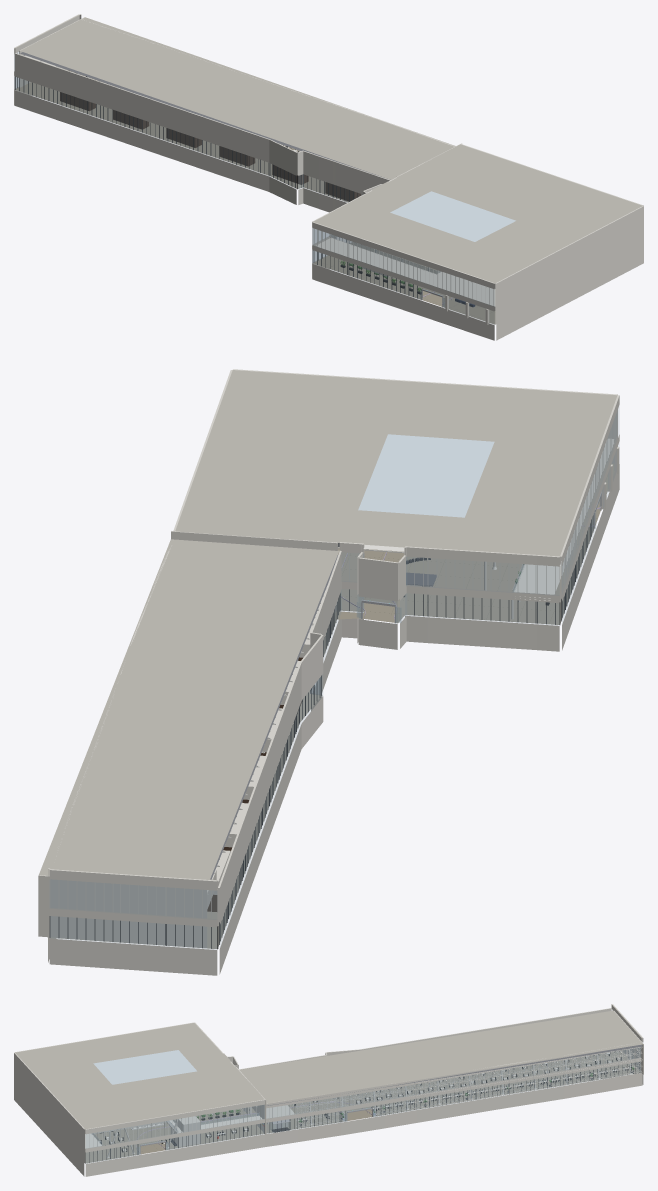
File: NovaHallWorld.fbx
The picture shows the model from 3 angles, top to bottom: view 1: azimuth 30°, elevation 25°; view 2: azimuth 150°, elevation 25°; view 3: azimuth 270°, elevation 25°; orthographic projection. The views are drawn at different scales.
Parts seen in each view (by area): view 1: Hall_Roof, Hall_Shell, Hall_Structure; view 2: Hall_Roof, Hall_Shell, Hall_Structure; view 3: Hall_Roof, Hall_Shell, Hall_Structure, Hall_Furniture.
Part boxes in pixels (x1,y1,x2,y2): Hall_Roof: [20, 17, 642, 283]; Hall_Shell: [14, 14, 643, 340]; Hall_Structure: [19, 17, 495, 306]; Hall_Roof: [39, 370, 617, 895]; Hall_Shell: [48, 369, 619, 975]; Hall_Structure: [38, 439, 613, 948]; Hall_Roof: [15, 1010, 642, 1129]; Hall_Shell: [14, 1004, 643, 1176]; Hall_Structure: [85, 1011, 643, 1157]; Hall_Furniture: [99, 1051, 634, 1152].
Bounding box in the file's own units: 105 × 18.3 × 221.
